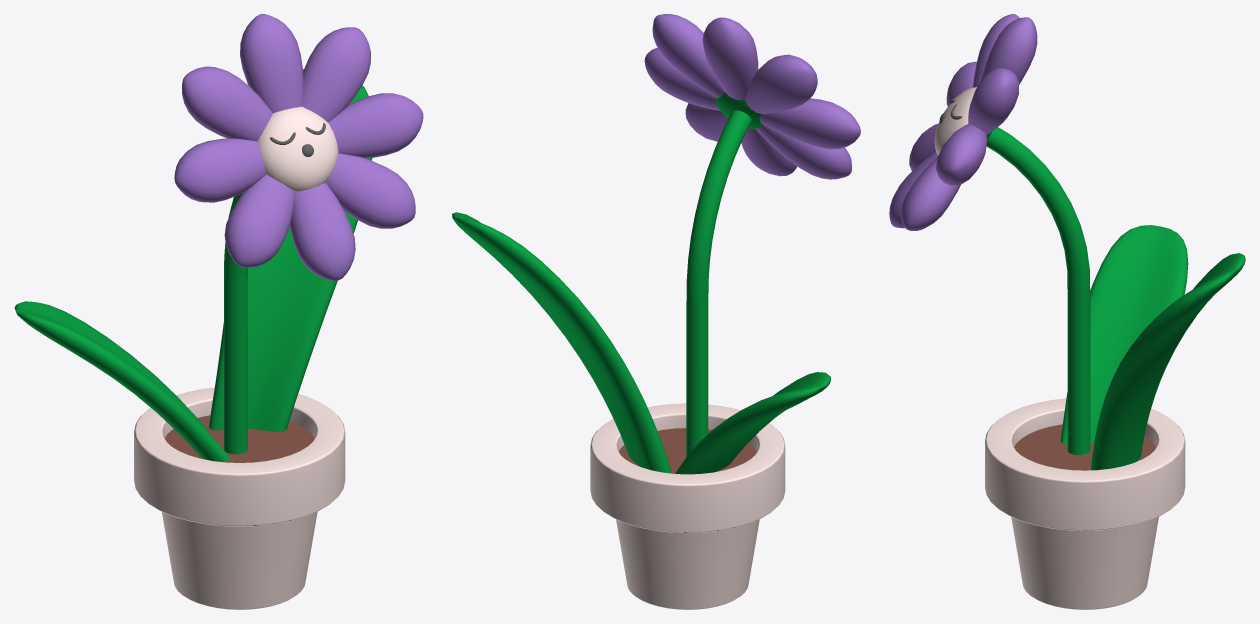
Rendered from City_15_Flower_2.glb.
3 renders of one model, left to right at view 1: azimuth 30°, elevation 25°; view 2: azimuth 150°, elevation 25°; view 3: azimuth 270°, elevation 25°, orthographic. The views are drawn at different scales.
Parts seen in each view (by area): view 1: City_15_Flower_2; view 2: City_15_Flower_2; view 3: City_15_Flower_2.
Boxes of the visible parts, bbox=[...] form: City_15_Flower_2: bbox=[14, 14, 423, 609]; City_15_Flower_2: bbox=[452, 14, 860, 609]; City_15_Flower_2: bbox=[889, 14, 1245, 609].
Size of the model in its own units: 1.19 by 1.8 by 1.04.
1 material, 1 textured.
